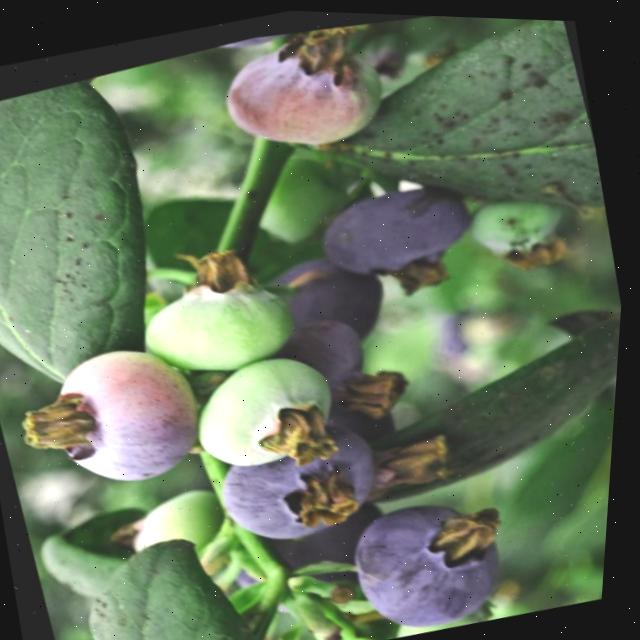RipeBlueBerry: (332, 458, 543, 640), (203, 399, 408, 565)
Semi-RipeBlueBerry: (14, 313, 233, 516), (193, 6, 405, 178)
UnripeBlueBerry: (116, 232, 321, 401), (171, 323, 364, 491)
